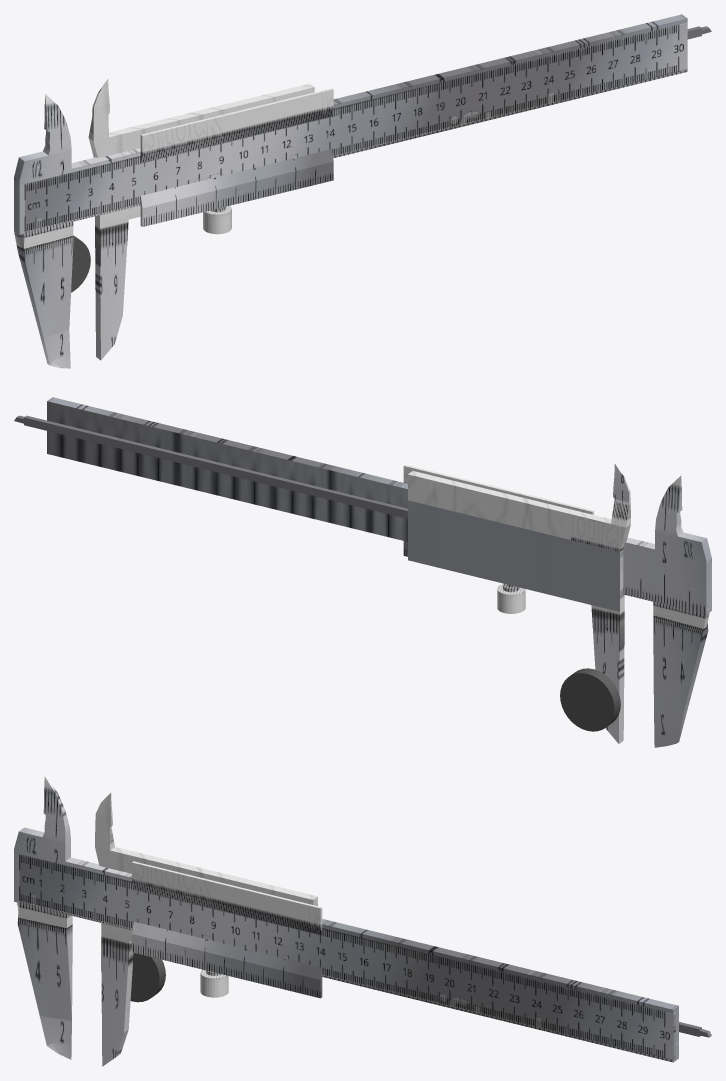
The model's file is VernierCaliper1.fbx.
The picture shows the model from 3 angles, top to bottom: view 1: azimuth 30°, elevation 25°; view 2: azimuth 150°, elevation 25°; view 3: azimuth 330°, elevation 25°; orthographic projection.
Parts seen in each view (by area): view 1: Cube, Cube.004, Cube.001, Cylinder.001, Cylinder; view 2: Cube.001, Cube.004, Cylinder.001, Cylinder; view 3: Cube, Cube.004, Cube.001, Cylinder.001, Cylinder.
Boxes of the visible parts, <box> form: Cube: <box>24,22,687,231</box>; Cube.004: <box>88,26,711,360</box>; Cube.001: <box>14,14,687,368</box>; Cylinder.001: <box>71,235,90,292</box>; Cylinder: <box>203,206,231,234</box>; Cube.001: <box>47,397,711,747</box>; Cube.004: <box>14,415,630,743</box>; Cylinder.001: <box>560,668,620,731</box>; Cylinder: <box>497,583,525,613</box>; Cube: <box>19,854,675,1060</box>; Cube.004: <box>95,793,711,1066</box>; Cube.001: <box>14,776,678,1062</box>; Cylinder.001: <box>130,953,165,1002</box>; Cylinder: <box>200,969,228,997</box>.
Bounding box in the file's own units: 632 × 244 × 76.85.
